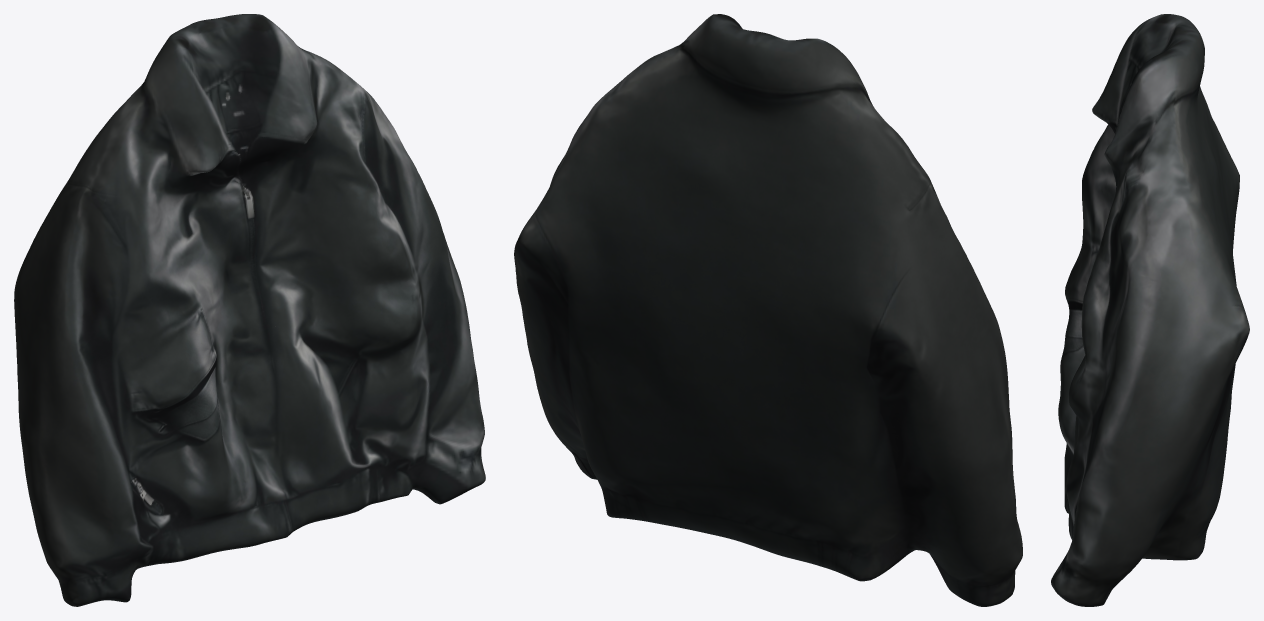
Rendered from SS season` 24 black leather coat.glb.
3 renders of one model, left to right at view 1: azimuth 30°, elevation 25°; view 2: azimuth 150°, elevation 25°; view 3: azimuth 270°, elevation 25°, orthographic. The views are drawn at different scales.
Bounding box in the file's own units: 1.07 × 1.2 × 0.4285.
1 material, 1 textured.
